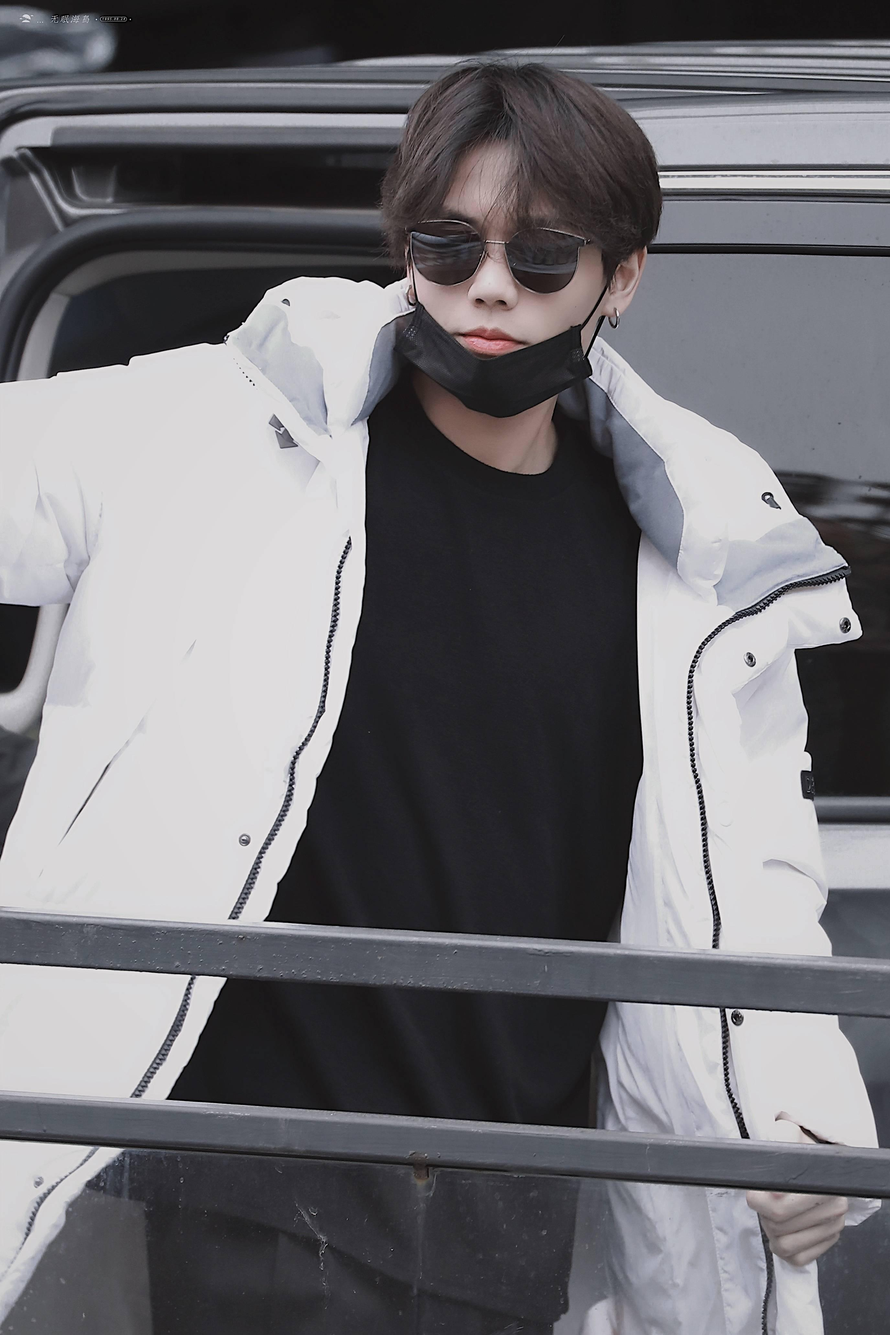WRONG: (412, 173, 595, 401)
